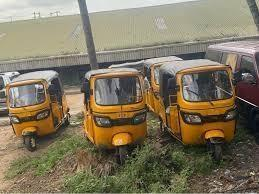keke: (157, 59, 238, 166), (83, 68, 148, 160), (5, 70, 72, 152)
